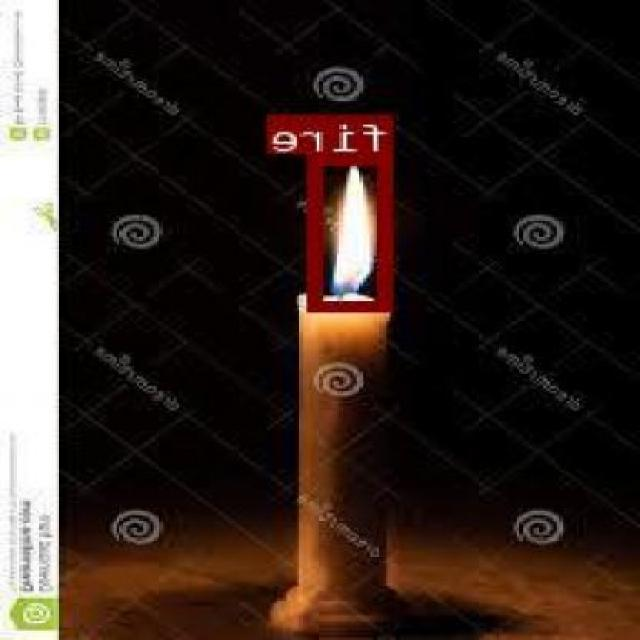fire: (310, 153, 396, 309)
